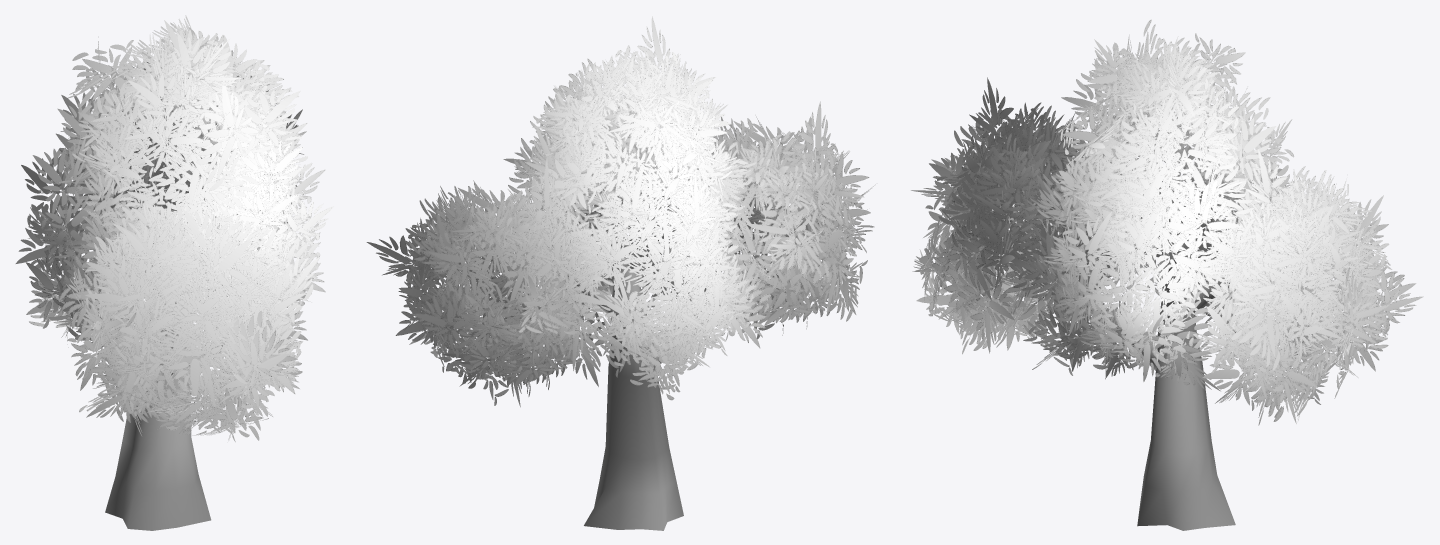
File: ManggoTree2.fbx
3 renders of one model, left to right at view 1: azimuth 30°, elevation 25°; view 2: azimuth 150°, elevation 25°; view 3: azimuth 270°, elevation 25°, orthographic. The views are drawn at different scales.
Parts seen in each view (by area): view 1: ManggoLeaves2LOD0, ManggoTree2LOD0; view 2: ManggoLeaves2LOD0, ManggoTree2LOD0; view 3: ManggoLeaves2LOD0, ManggoTree2LOD0.
Boxes of the visible parts, x1=… form: ManggoLeaves2LOD0: x1=15, y1=15, x2=333, y2=441; ManggoTree2LOD0: x1=105, y1=225, x2=211, y2=530; ManggoLeaves2LOD0: x1=366, y1=16, x2=875, y2=407; ManggoTree2LOD0: x1=574, y1=263, x2=706, y2=530; ManggoLeaves2LOD0: x1=911, y1=19, x2=1423, y2=425; ManggoTree2LOD0: x1=1095, y1=260, x2=1235, y2=530.
Size of the model in its own units: 1095 by 1358 by 1308.
Materials: 2 (1 with a texture image).
